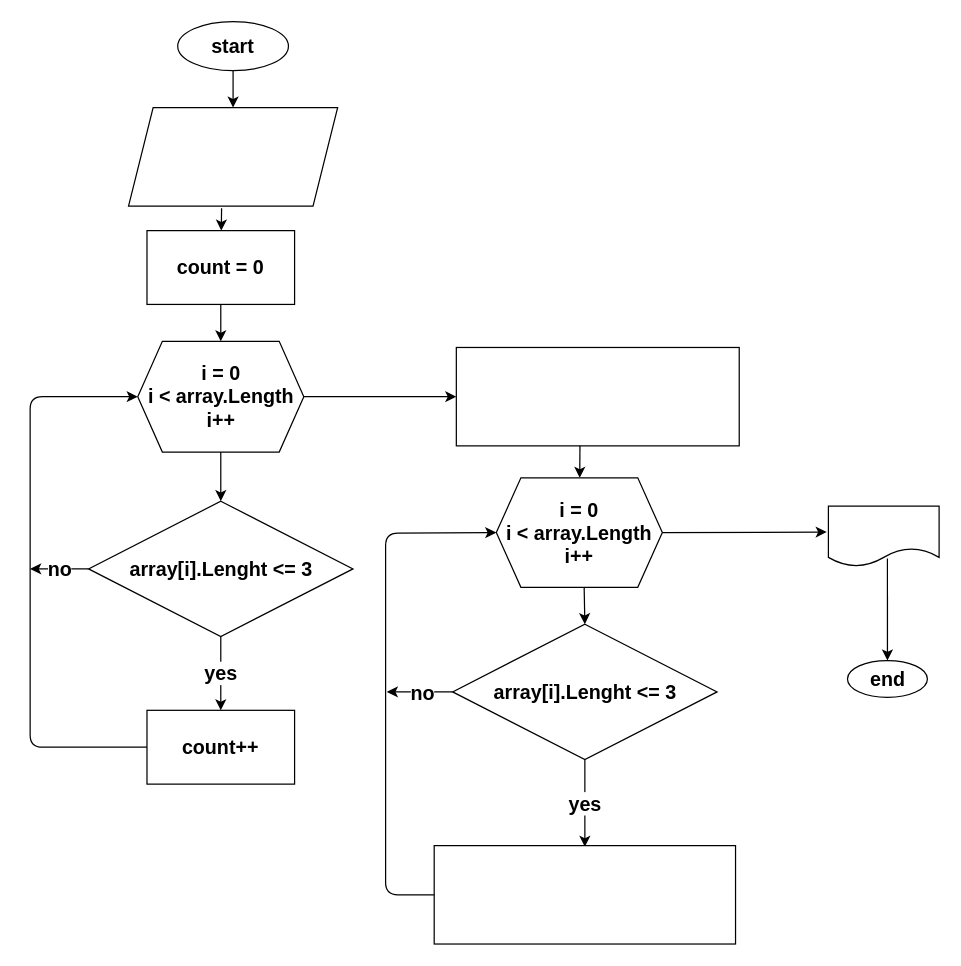
This 961x966 diagram has some shape labels left out. Each missing label, with the centre of its shape:
array: the point at 232,156
new array: the point at 883,535
new array = new array[count] count = 0: the point at 597,396
new array[count] = array[i] count++: the point at 584,894
